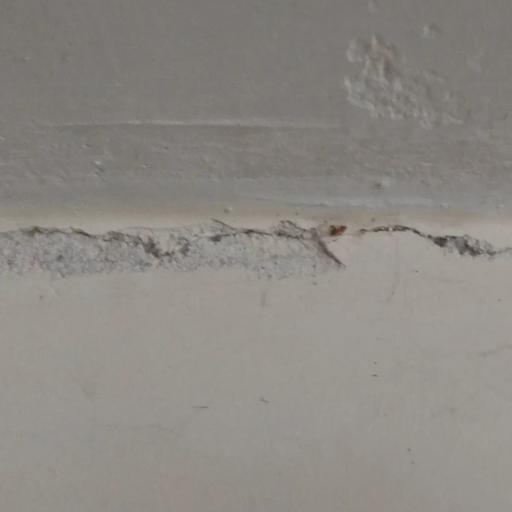spalling: (0, 189, 512, 298)
